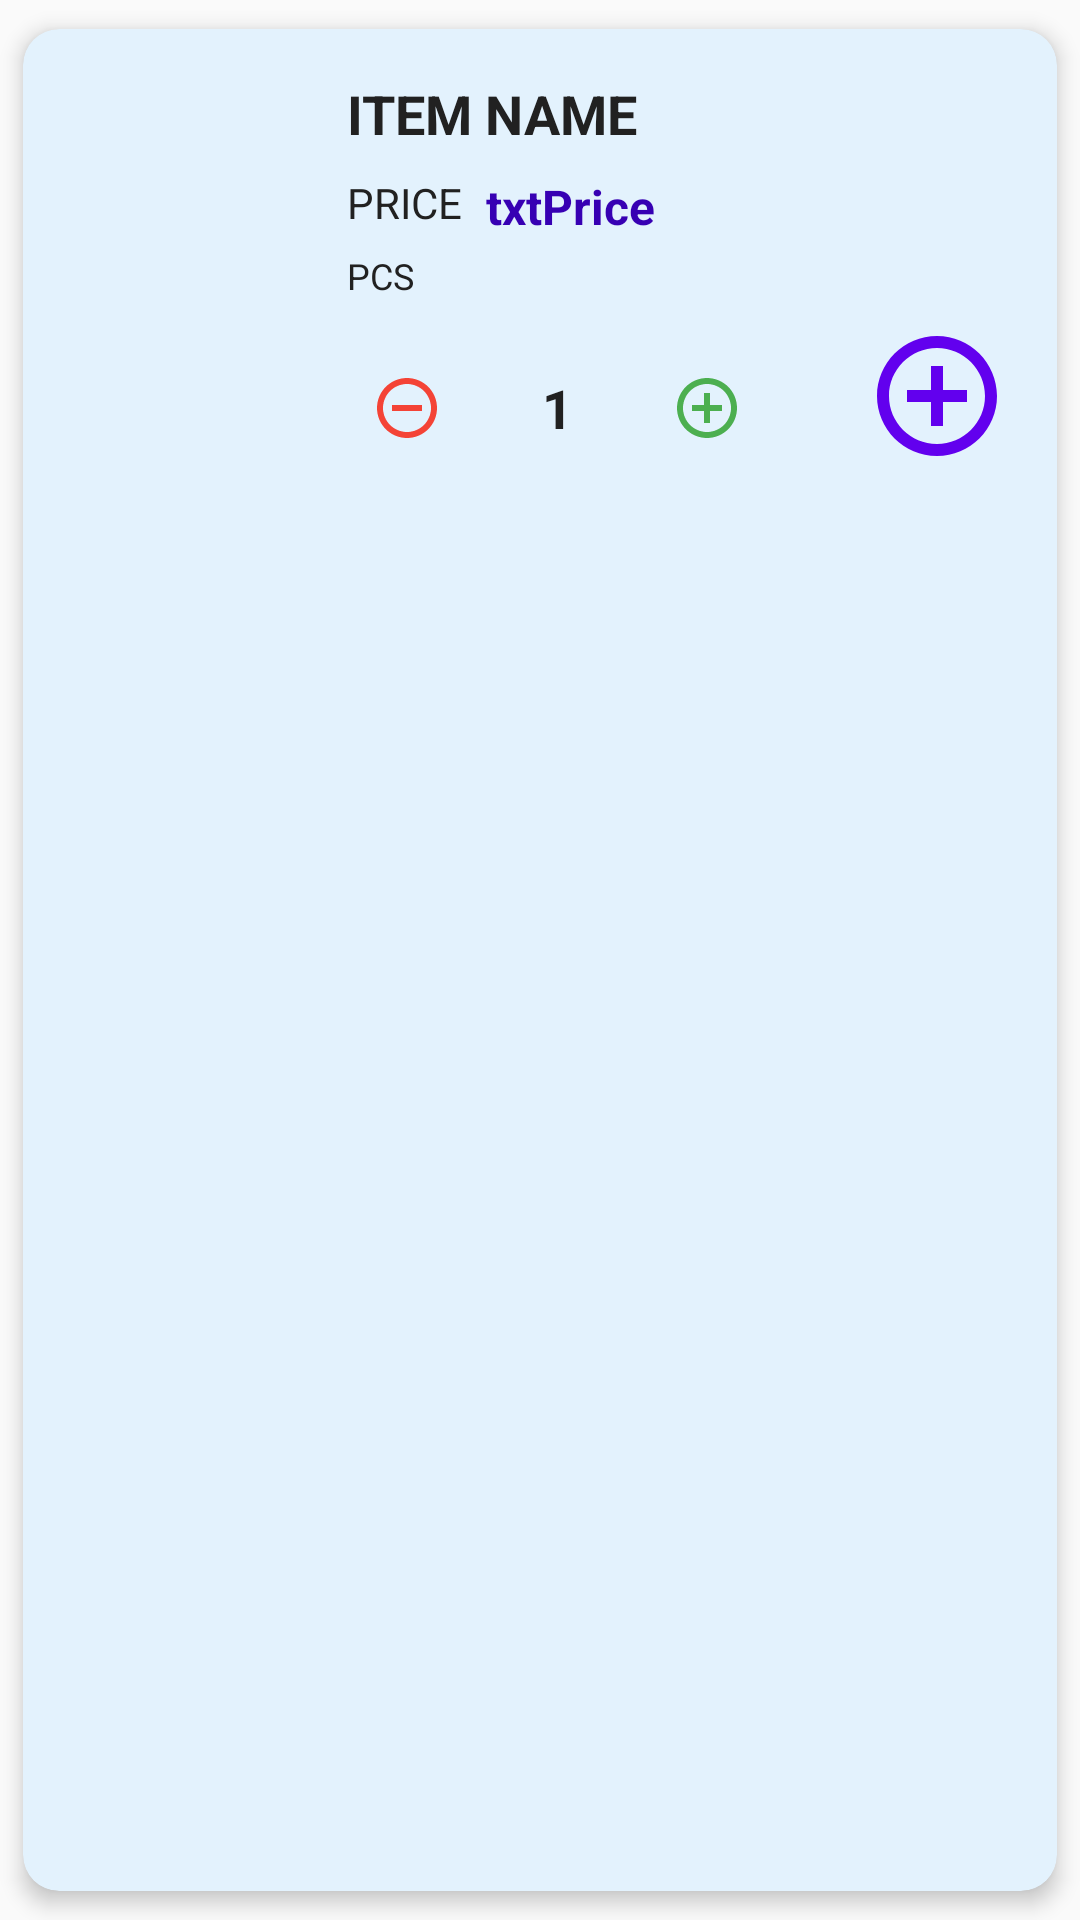

Icon bounding boxes for this 1080px x 1920px phone screenshot, format detection(x1, y1, x2, y2):
minus circle: detection(377, 378, 437, 438)
plus circle: detection(877, 336, 997, 456), detection(677, 378, 737, 438)
